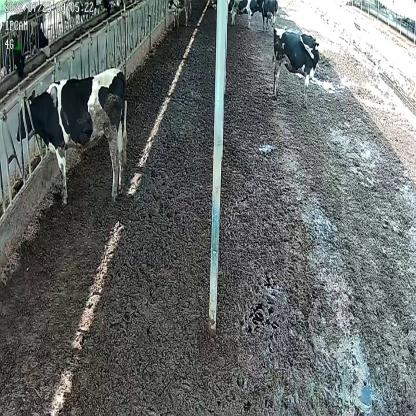cow: (17, 66, 130, 203), (270, 26, 320, 103), (228, 0, 260, 28), (258, 0, 278, 35)
